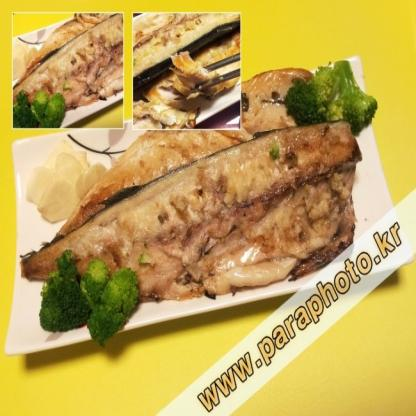Peixe: (28, 71, 366, 332), (129, 0, 250, 138), (26, 15, 124, 96)
